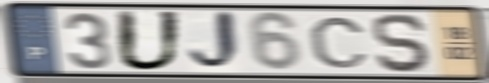3: (62, 10, 112, 71)
6: (245, 9, 308, 75)
C: (307, 15, 372, 71)
J: (186, 8, 246, 75)
S: (370, 11, 435, 75)
U: (113, 8, 184, 73)
